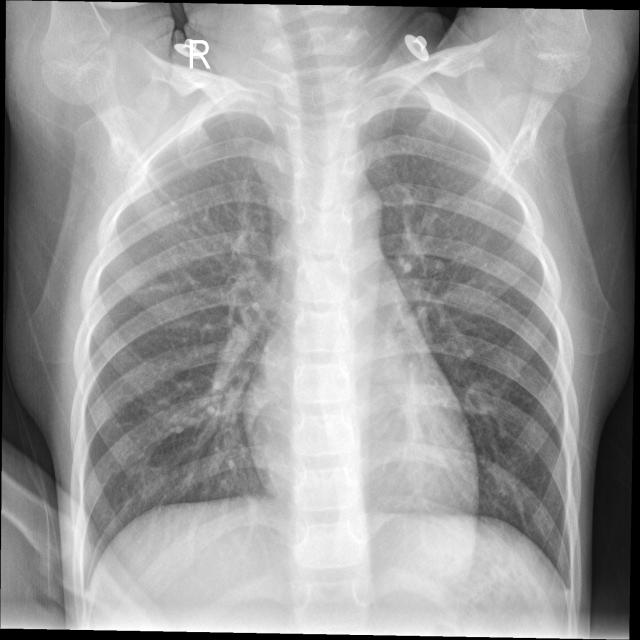no-pneumonia: (73, 112, 292, 601), (362, 109, 579, 591)
